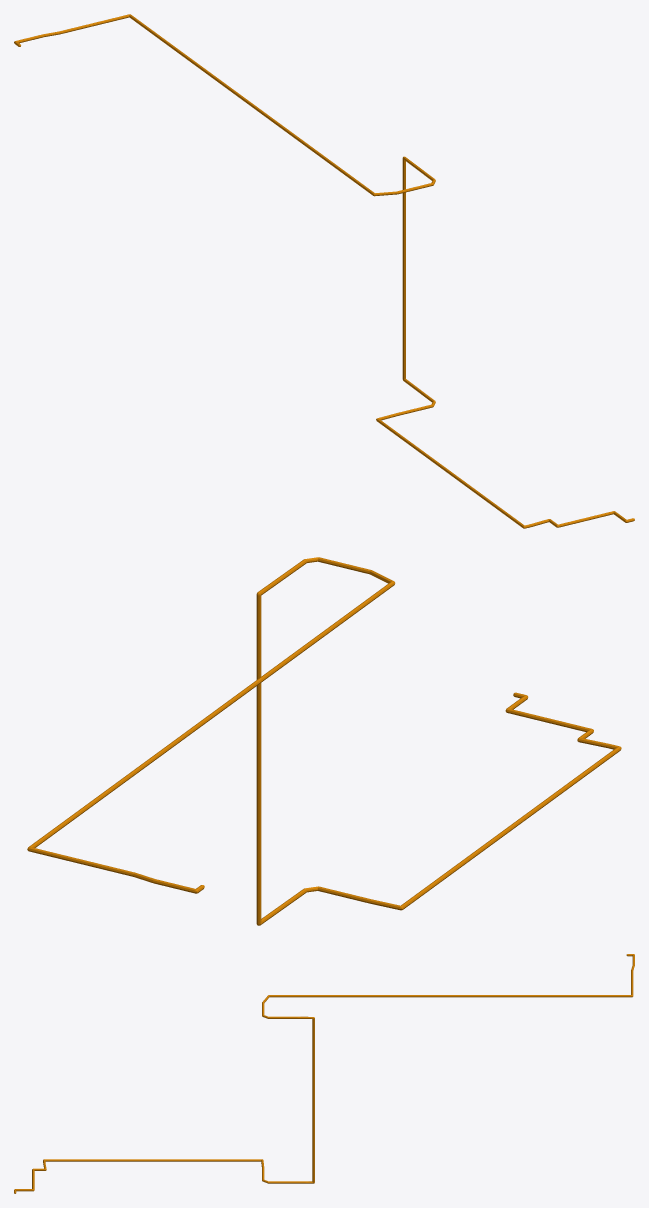
3 renders of one model, top to bottom at view 1: azimuth 30°, elevation 25°; view 2: azimuth 150°, elevation 25°; view 3: azimuth 270°, elevation 25°, orthographic. The views are drawn at different scales.
Bounding box in the file's own units: 1448 × 1520 × 5128.
